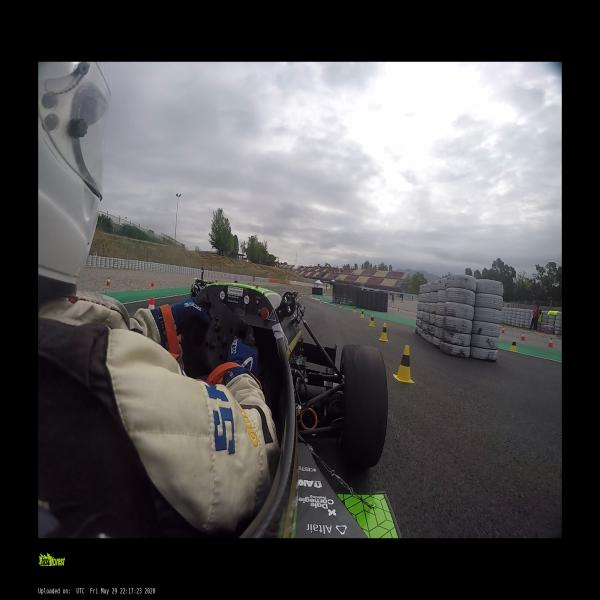orange_cone: (546, 337, 554, 349), (148, 297, 154, 309), (105, 276, 111, 286), (520, 332, 525, 341), (501, 326, 505, 332)
yellow_cone: (392, 345, 414, 383), (378, 321, 389, 343), (509, 337, 517, 352), (368, 314, 374, 327), (360, 309, 364, 318), (353, 306, 356, 312), (319, 299, 322, 304), (338, 303, 341, 308), (298, 294, 300, 299)
